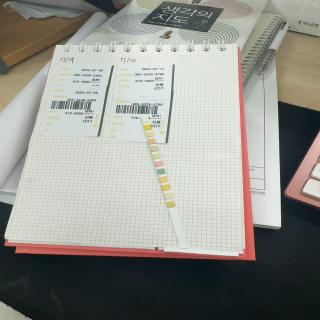mark: (150, 146, 158, 152), (165, 192, 172, 198), (167, 202, 175, 207), (162, 185, 170, 190), (160, 177, 167, 182), (158, 169, 165, 174), (156, 161, 162, 166), (149, 139, 155, 144), (147, 132, 153, 137), (145, 125, 151, 130), (153, 154, 160, 158), (142, 118, 149, 122)
